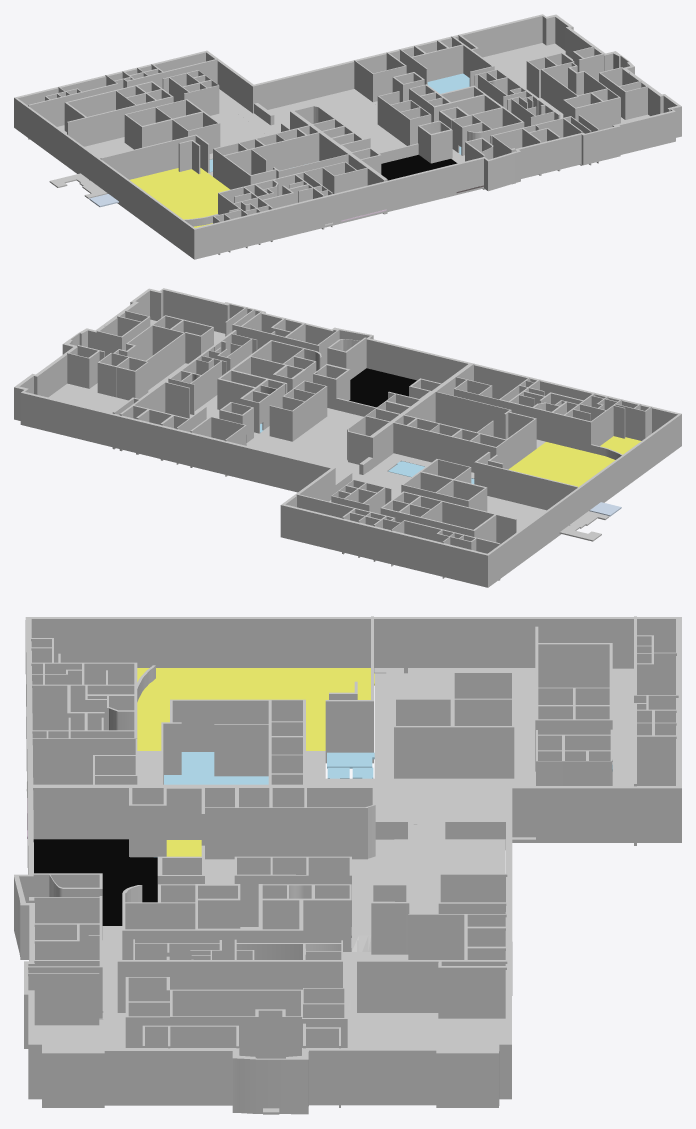
File: Walls.fbx
The picture shows the model from 3 angles, top to bottom: view 1: azimuth 30°, elevation 25°; view 2: azimuth 150°, elevation 25°; view 3: azimuth 270°, elevation 25°; orthographic projection. The views are drawn at different scales.
Parts seen in each view (by area): view 1: OuterWall, pCube68, pCube59, pCube67, polySurface15, polySurface158, pCube65, polySurface75, pCube14, pCube3, pCube49, pCube47 (+33 smaller); view 2: OuterWall, pCube59, polySurface158, pCube68, pCube60, pCube14, pCube65, pCube67, polySurface15, pCube3, pCube49, pCube61 (+30 smaller); view 3: OuterWall, polySurface75, pCube67, pCube55, polySurface158, pCube14, polySurface15, pCube56, polySurface155, pCube59, pCube68, pCube3 (+37 smaller).
Part boxes in pixels (left/top/right/bottom): OuterWall: left=14, top=14, right=681, bottom=259; pCube68: left=64, top=81, right=173, bottom=146; pCube59: left=222, top=132, right=348, bottom=189; pCube67: left=124, top=99, right=220, bottom=153; polySurface15: left=130, top=168, right=229, bottom=226; polySurface158: left=268, top=89, right=406, bottom=152; pCube65: left=100, top=134, right=209, bottom=179; polySurface75: left=49, top=110, right=266, bottom=198; pCube14: left=474, top=69, right=560, bottom=127; pCube3: left=541, top=62, right=608, bottom=113; pCube49: left=377, top=91, right=431, bottom=145; pCube47: left=399, top=40, right=463, bottom=84; OuterWall: left=14, top=288, right=681, bottom=587; pCube59: left=403, top=391, right=536, bottom=469; polySurface158: left=190, top=395, right=363, bottom=480; pCube68: left=380, top=491, right=516, bottom=543; pCube60: left=393, top=418, right=506, bottom=472; pCube14: left=168, top=330, right=257, bottom=414; pCube65: left=474, top=452, right=577, bottom=510; pCube67: left=401, top=459, right=487, bottom=511; polySurface15: left=508, top=442, right=615, bottom=487; pCube3: left=113, top=324, right=185, bottom=389; pCube49: left=269, top=380, right=327, bottom=441; pCube61: left=499, top=379, right=593, bottom=445; OuterWall: left=14, top=617, right=681, bottom=1114; polySurface75: left=374, top=668, right=633, bottom=824; pCube67: left=394, top=672, right=514, bottom=778; pCube55: left=33, top=784, right=375, bottom=839; polySurface158: left=205, top=839, right=505, bottom=1010; pCube14: left=117, top=939, right=342, bottom=1012; polySurface15: left=137, top=668, right=374, bottom=750; pCube56: left=205, top=787, right=375, bottom=859; polySurface155: left=34, top=1010, right=505, bottom=1114; pCube59: left=161, top=699, right=271, bottom=784; pCube68: left=535, top=626, right=612, bottom=771; pCube3: left=170, top=989, right=302, bottom=1058.
Size of the model in its own units: 10.35 by 0.636 by 6.17.
